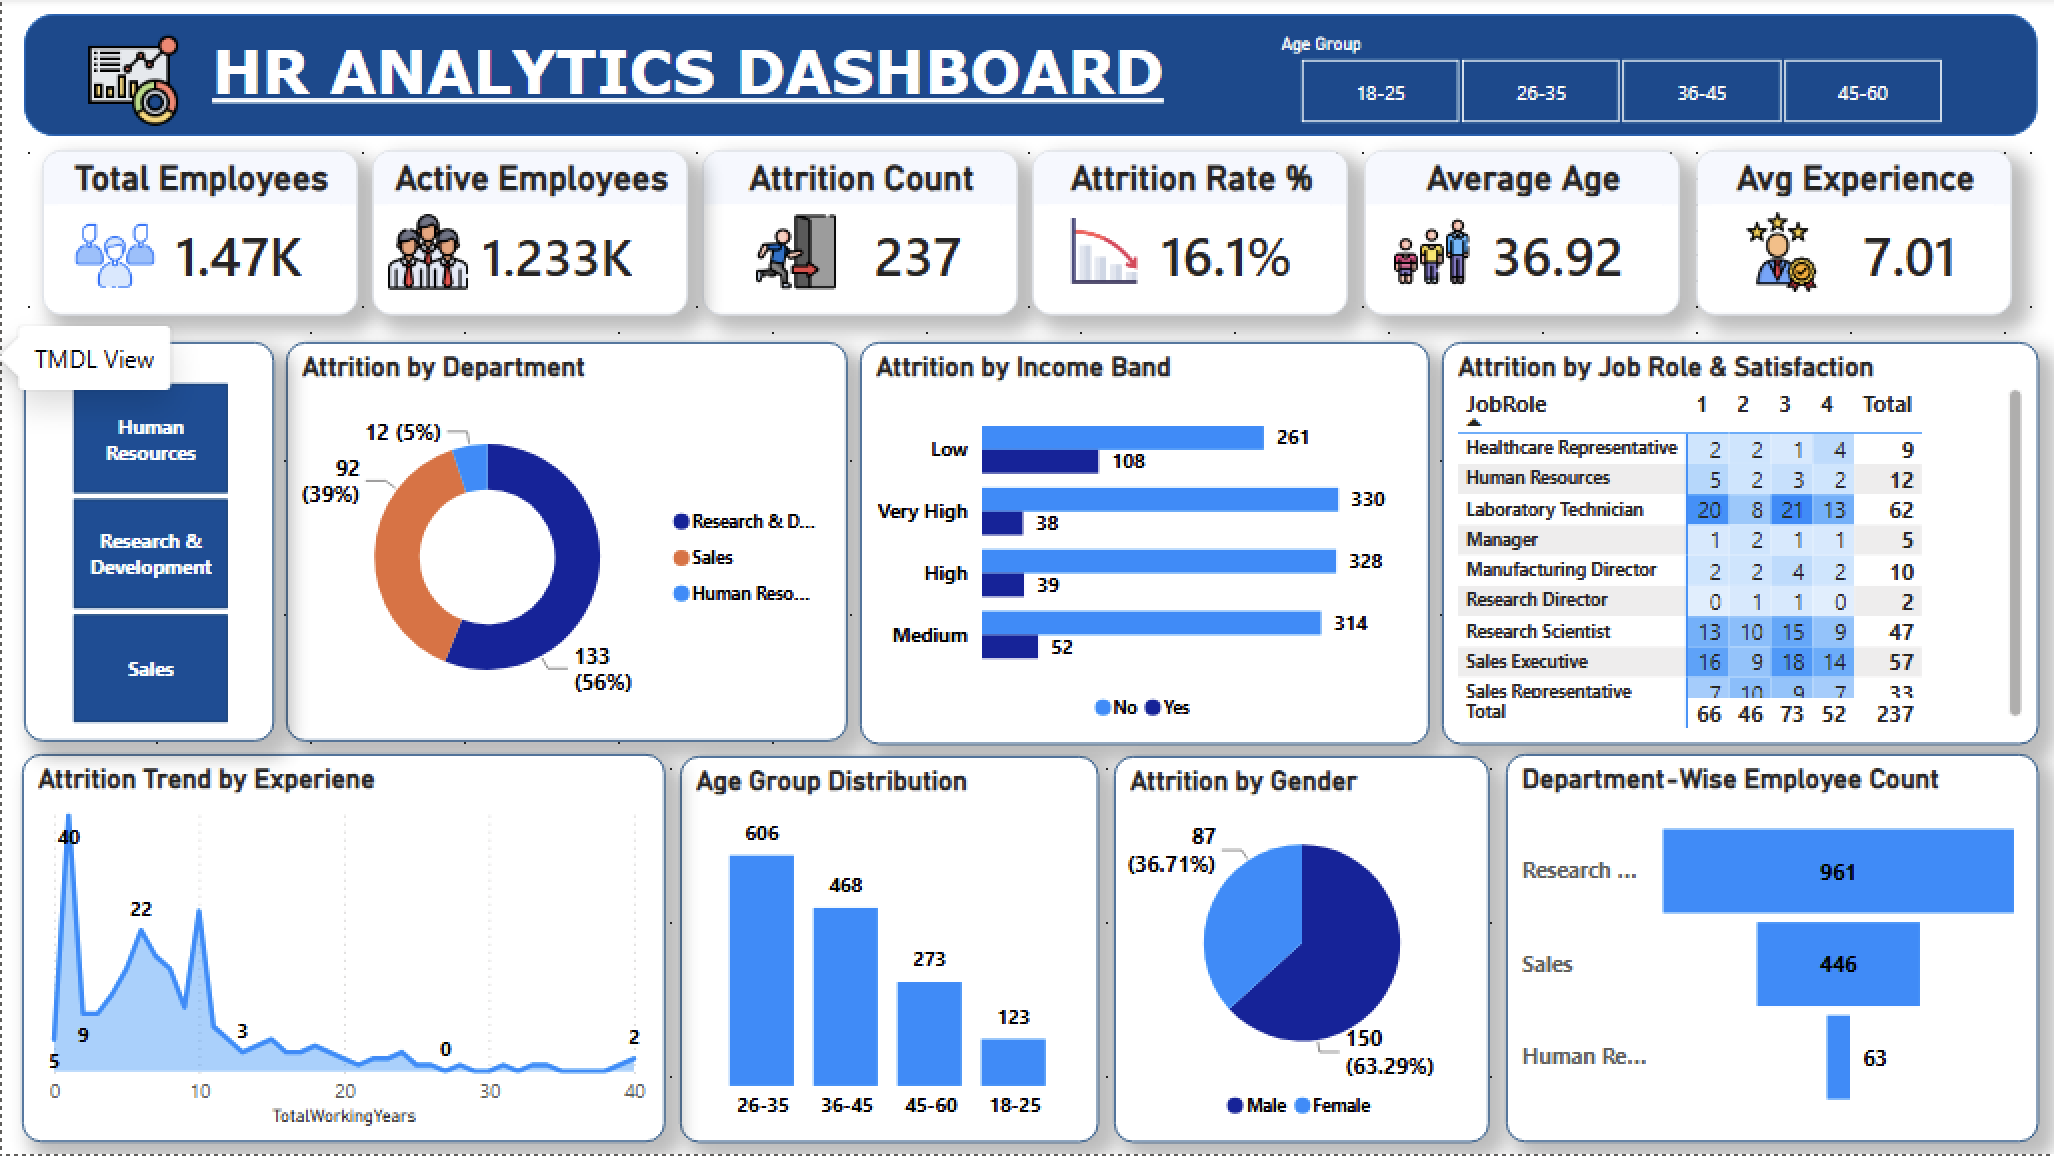

What the dashboard file says about the page in this screenshot:
{"tool":"powerbi","page":{"name":"Page 1","canvas":[1280,720],"ordinal":0},"visuals":[{"type":"cardVisual","title":"Total Employees","fields":{"Data":["CountNonNull(02_cleaned_hr_attrition.EmployeeNumber)"]},"box":[24.9,94.8,197,103.5],"z":0},{"type":"cardVisual","title":"Attrition Count","fields":{"Data":["Sum(02_cleaned_hr_attrition.AttritionCount)"]},"box":[436.4,94.8,197,103.5],"z":1000},{"type":"cardVisual","title":"Attrition Rate %","fields":{"Data":["02_cleaned_hr_attrition.Attrition Rate %"]},"box":[642.1,94.8,197,103.5],"z":2000},{"type":"cardVisual","title":"Average Age","fields":{"Data":["Avg(02_cleaned_hr_attrition.Age)"]},"box":[849,94.8,197,103.5],"z":3000},{"type":"cardVisual","title":"Active Employees","fields":{"Data":["CountNonNull(02_cleaned_hr_attrition.EmployeeNumber)"]},"box":[230.6,94.8,197,103.5],"z":4000},{"type":"cardVisual","title":"Avg Experience","fields":{"Data":["Avg(02_cleaned_hr_attrition.YearsAtCompany)"]},"box":[1056,94.8,197,103.5],"z":5000},{"type":"shape","title":"HR ANALYSIS DASHBOARD","box":[13.7,10,1255.5,76.1],"z":6000},{"type":"image","box":[470,131.7,50.2,52.5],"z":7000},{"type":"image","box":[241.1,131.7,50.2,52.5],"z":8000},{"type":"image","box":[39.6,134.1,61,51.8],"z":9000},{"type":"image","box":[665.3,137.3,42.4,41.3],"z":10000},{"type":"image","box":[867.3,135.1,46.9,46.9],"z":11000},{"type":"image","box":[1083.9,132.8,52.5,50.2],"z":12000},{"type":"textbox","box":[123.9,17.9,608.4,67],"z":13000},{"type":"image","box":[40.2,22.3,84.8,58],"z":14000},{"type":"donutChart","title":"Attrition by Department","fields":{"Category":["02_cleaned_hr_attrition.Department"],"Y":["Sum(02_cleaned_hr_attrition.AttritionCount)"]},"box":[177,215,350,249],"z":15000},{"type":"clusteredBarChart","title":"Attrition by Income Band","fields":{"Y":["CountNonNull(02_cleaned_hr_attrition.EmployeeNumber)"],"Category":["02_cleaned_hr_attrition.Income_Band"],"Series":["02_cleaned_hr_attrition.Attrition"]},"box":[534.9,214.4,355.3,250.6],"z":16000},{"type":"pivotTable","title":"Attrition by Job Role & Satisfaction","fields":{"Rows":["02_cleaned_hr_attrition.JobRole"],"Columns":["02_cleaned_hr_attrition.JobSatisfaction"],"Values":["Sum(02_cleaned_hr_attrition.AttritionCount)"]},"box":[897.7,214.4,371.5,250.6],"z":17000},{"type":"columnChart","title":"Age Group Distribution","fields":{"Category":["02_cleaned_hr_attrition.Age_Group"],"Y":["Sum(02_cleaned_hr_attrition.EmployeeCount)"]},"box":[422.6,472.5,260.6,240.6],"z":18000},{"type":"pieChart","title":"Attrition by Gender","fields":{"Category":["02_cleaned_hr_attrition.Gender"],"Y":["Sum(02_cleaned_hr_attrition.AttritionCount)"]},"box":[693.2,472.5,234.4,240.6],"z":19000},{"type":"areaChart","title":"Attrition Trend by Experiene","fields":{"Category":["02_cleaned_hr_attrition.TotalWorkingYears"],"Y2":["Sum(02_cleaned_hr_attrition.AttritionCount)"]},"box":[12.5,471.3,401.5,241.9],"z":20000},{"type":"funnel","title":"Department-Wise Employee Count","fields":{"Category":["02_cleaned_hr_attrition.Department"],"Y":["Sum(02_cleaned_hr_attrition.EmployeeCount)"]},"box":[937.6,471.3,331.6,241.9],"z":21000},{"type":"slicer","fields":{"Values":["02_cleaned_hr_attrition.Department"]},"box":[13.7,214.4,155.8,249.4],"z":22000},{"type":"slicer","fields":{"Values":["02_cleaned_hr_attrition.Age_Group"]},"box":[784.2,17.5,448.8,67.3],"z":22001}]}

Visuals, with their boxes in screenshot pixels (x1, y1, x2, y2), scaled from the page's 1280x720 canvas onto the 2054x1156 screenshot:
"Total Employees" cardVisual: bbox=[40, 152, 356, 318]
"Attrition Count" cardVisual: bbox=[700, 152, 1016, 318]
"Attrition Rate %" cardVisual: bbox=[1030, 152, 1346, 318]
"Average Age" cardVisual: bbox=[1362, 152, 1679, 318]
"Active Employees" cardVisual: bbox=[370, 152, 686, 318]
"Avg Experience" cardVisual: bbox=[1695, 152, 2011, 318]
"HR ANALYSIS DASHBOARD" shape: bbox=[22, 16, 2037, 138]
image: bbox=[754, 211, 835, 296]
image: bbox=[387, 211, 467, 296]
image: bbox=[64, 215, 161, 298]
image: bbox=[1068, 220, 1136, 287]
image: bbox=[1392, 217, 1467, 292]
image: bbox=[1739, 213, 1824, 294]
textbox: bbox=[199, 29, 1175, 136]
image: bbox=[65, 36, 201, 129]
"Attrition by Department" donutChart: bbox=[284, 345, 846, 745]
"Attrition by Income Band" clusteredBarChart: bbox=[858, 344, 1428, 747]
"Attrition by Job Role & Satisfaction" pivotTable: bbox=[1441, 344, 2037, 747]
"Age Group Distribution" columnChart: bbox=[678, 759, 1096, 1145]
"Attrition by Gender" pieChart: bbox=[1112, 759, 1489, 1145]
"Attrition Trend by Experiene" areaChart: bbox=[20, 757, 664, 1145]
"Department-Wise Employee Count" funnel: bbox=[1505, 757, 2037, 1145]
slicer - 02_cleaned_hr_attrition.Department: bbox=[22, 344, 272, 745]
slicer - 02_cleaned_hr_attrition.Age_Group: bbox=[1258, 28, 1979, 136]
